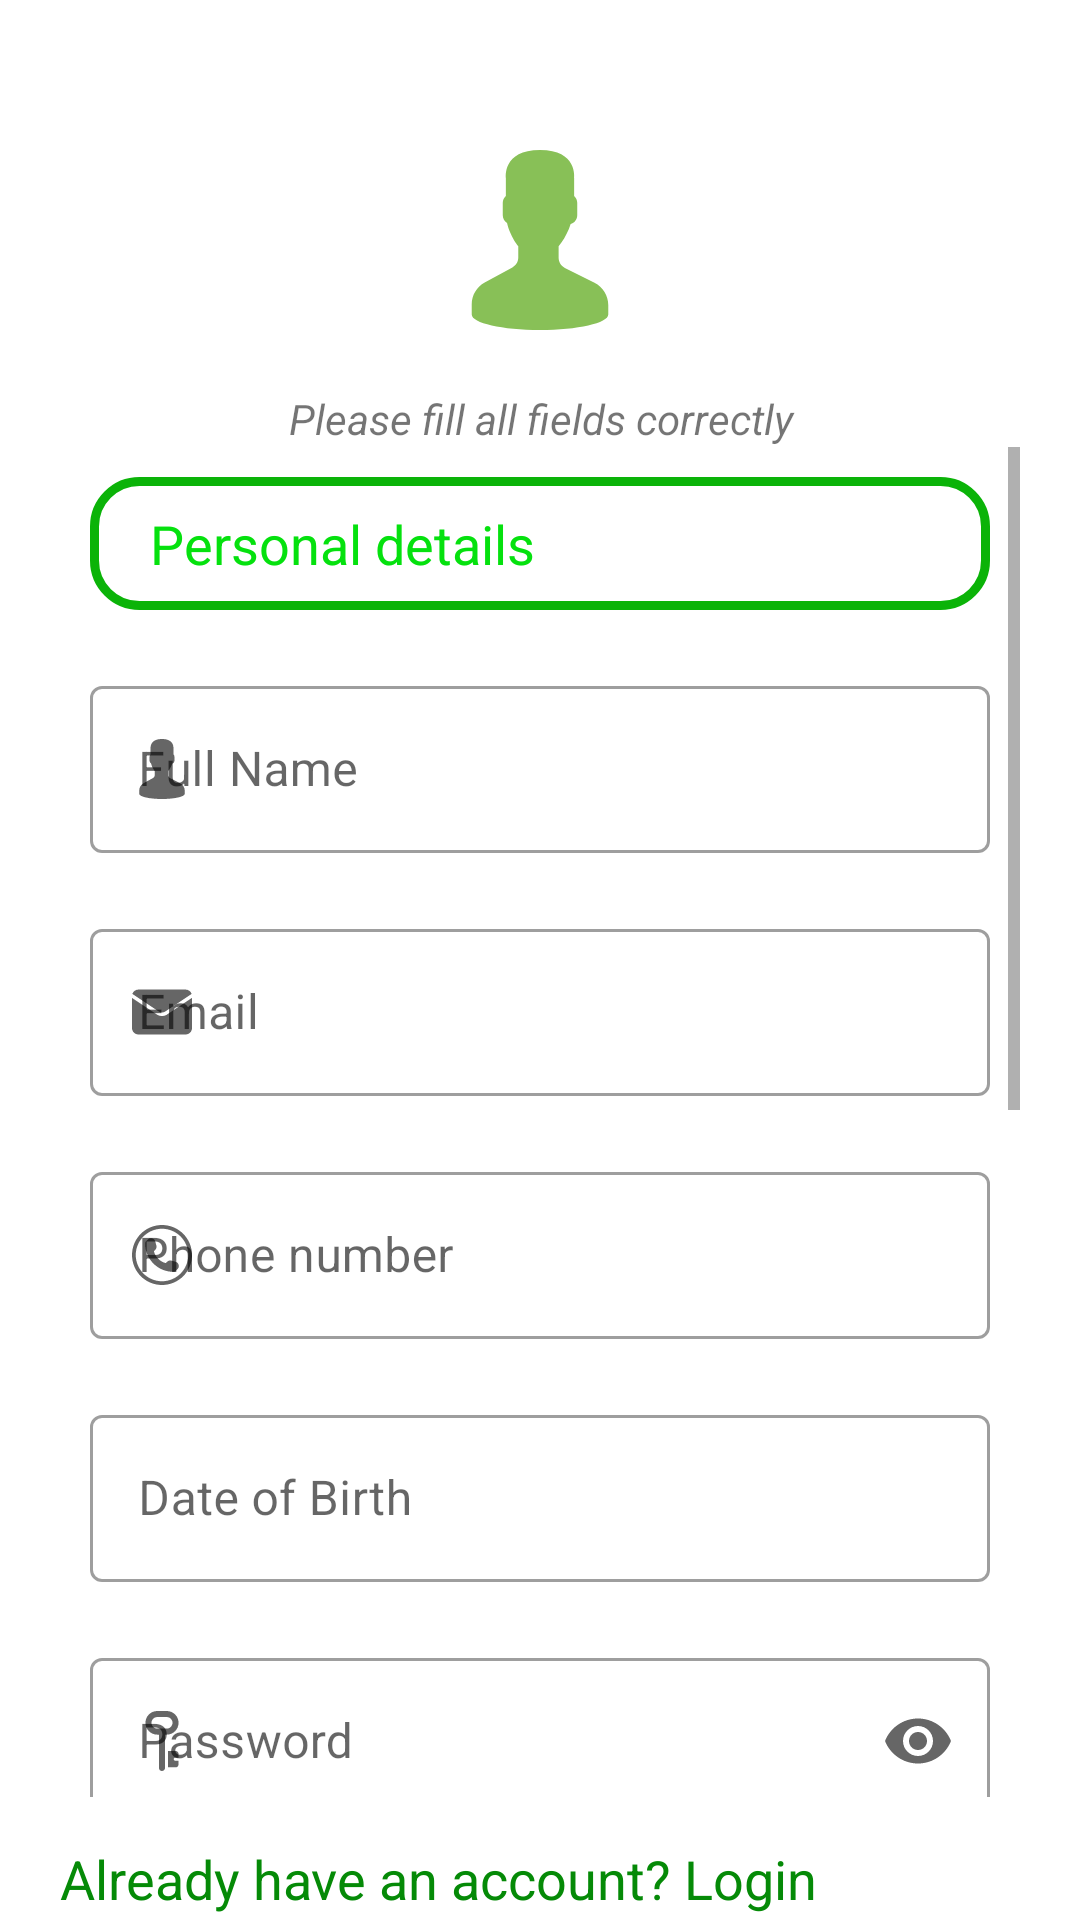

Icon click points for this 1080x1920 phone screenshot, format [x,y]:
user: [540,240]
